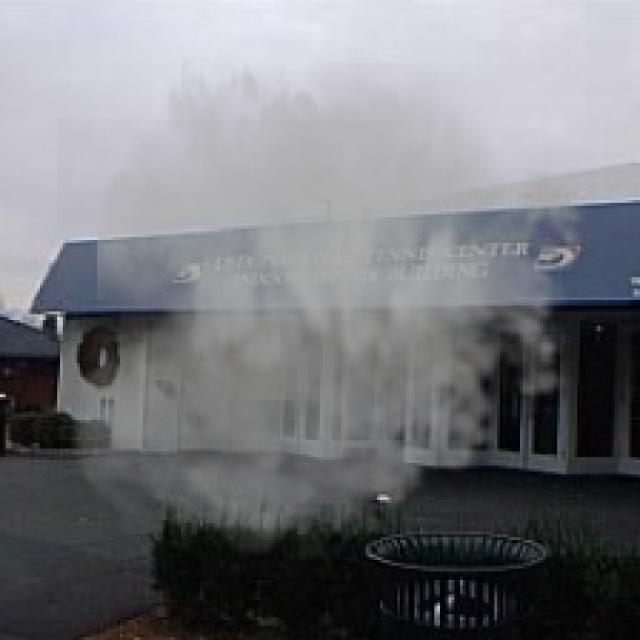smoke: (57, 23, 600, 571)
